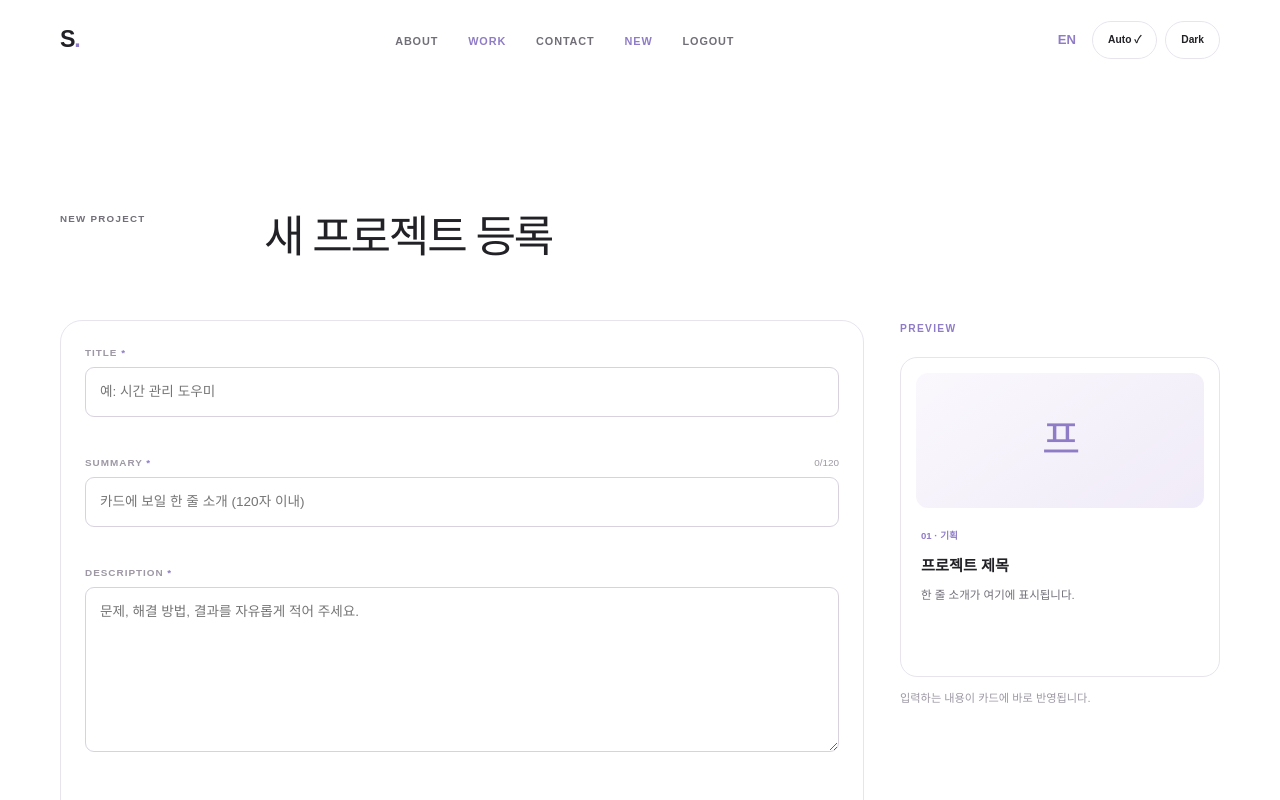
Test: 등록 화면 (/projects/new) › 저장에 실패하면 폼 위에 오류를 보여주고 입력값을 유지한다
Step 1. Type "제목" into the field labelled "TITLE *" → coordinates (462, 392), box left=85, top=368, right=839, bottom=417
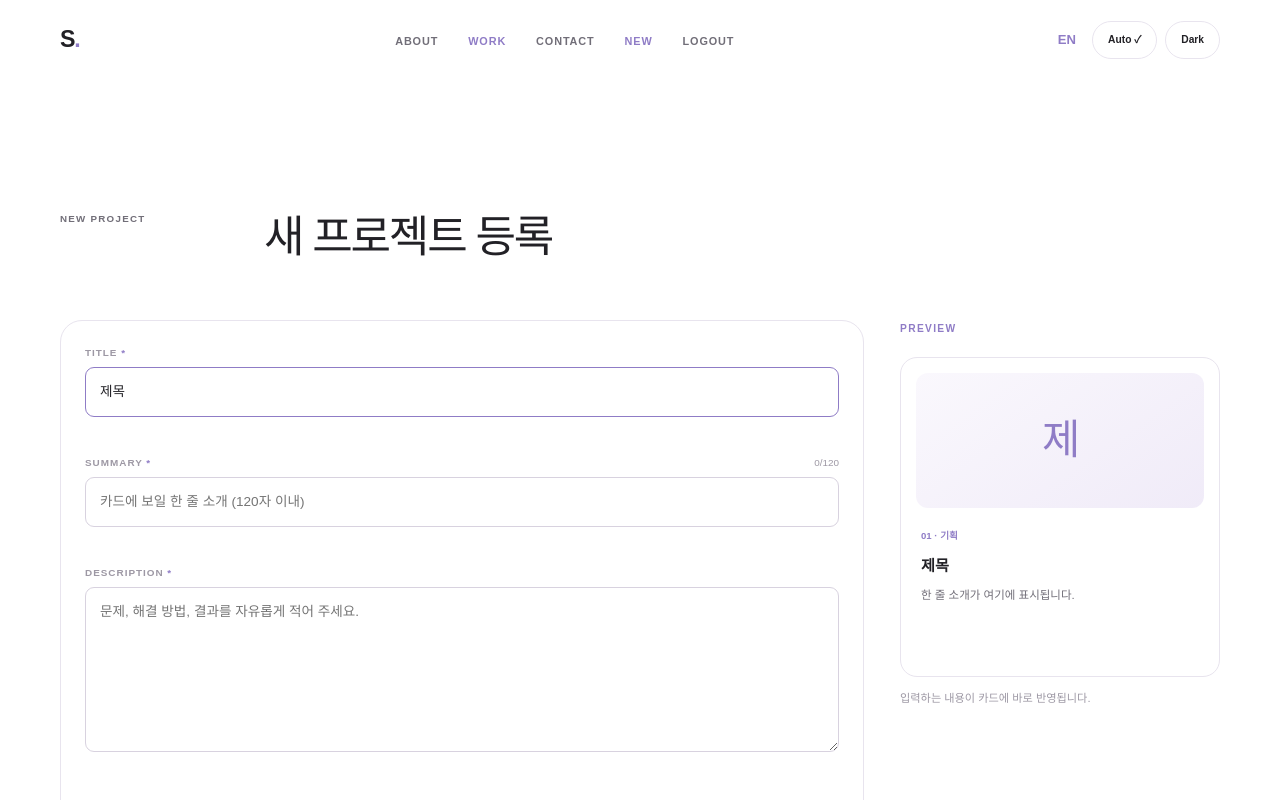
Step 2. Type "요약" into the field labelled "SUMMARY *" → coordinates (462, 502), box left=85, top=477, right=839, bottom=526
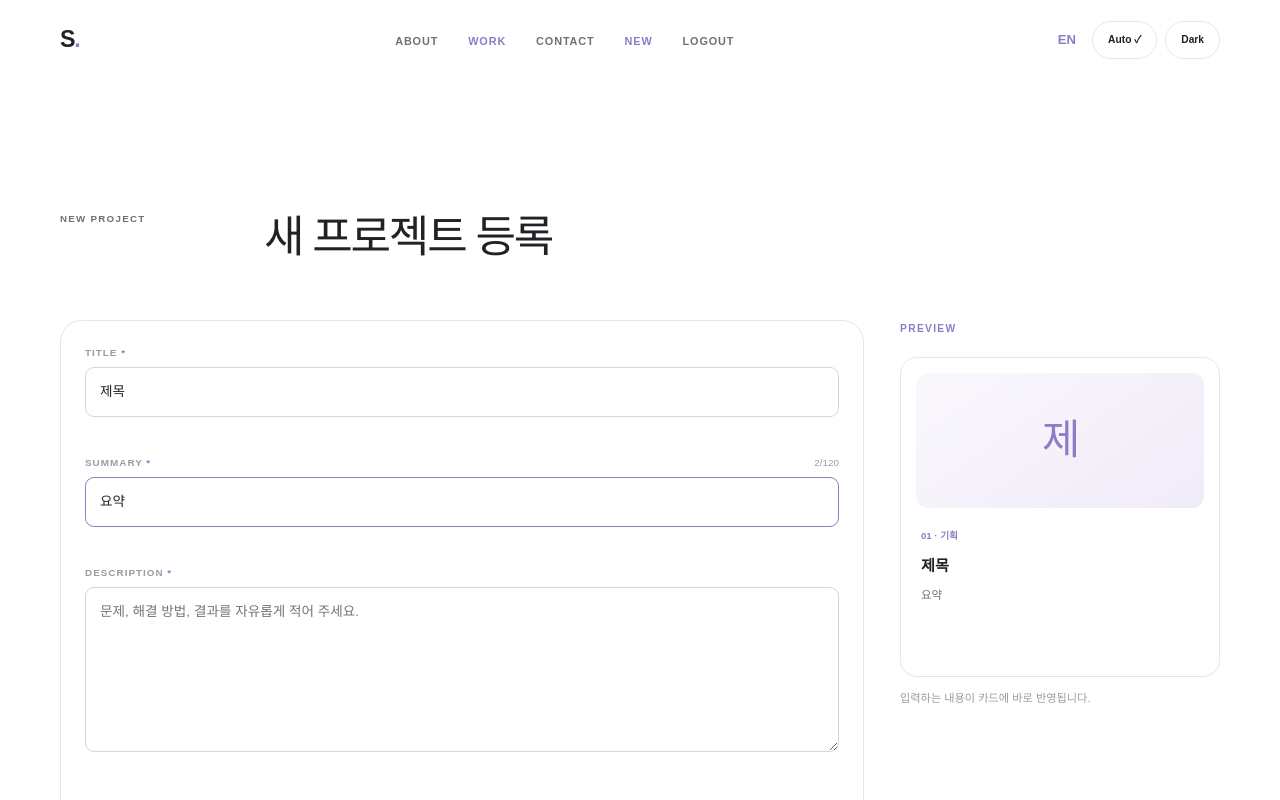
Step 3. Type "설명" into the text box labelled "DESCRIPTION *" → coordinates (462, 670), box left=85, top=587, right=839, bottom=752
(page scrolled)
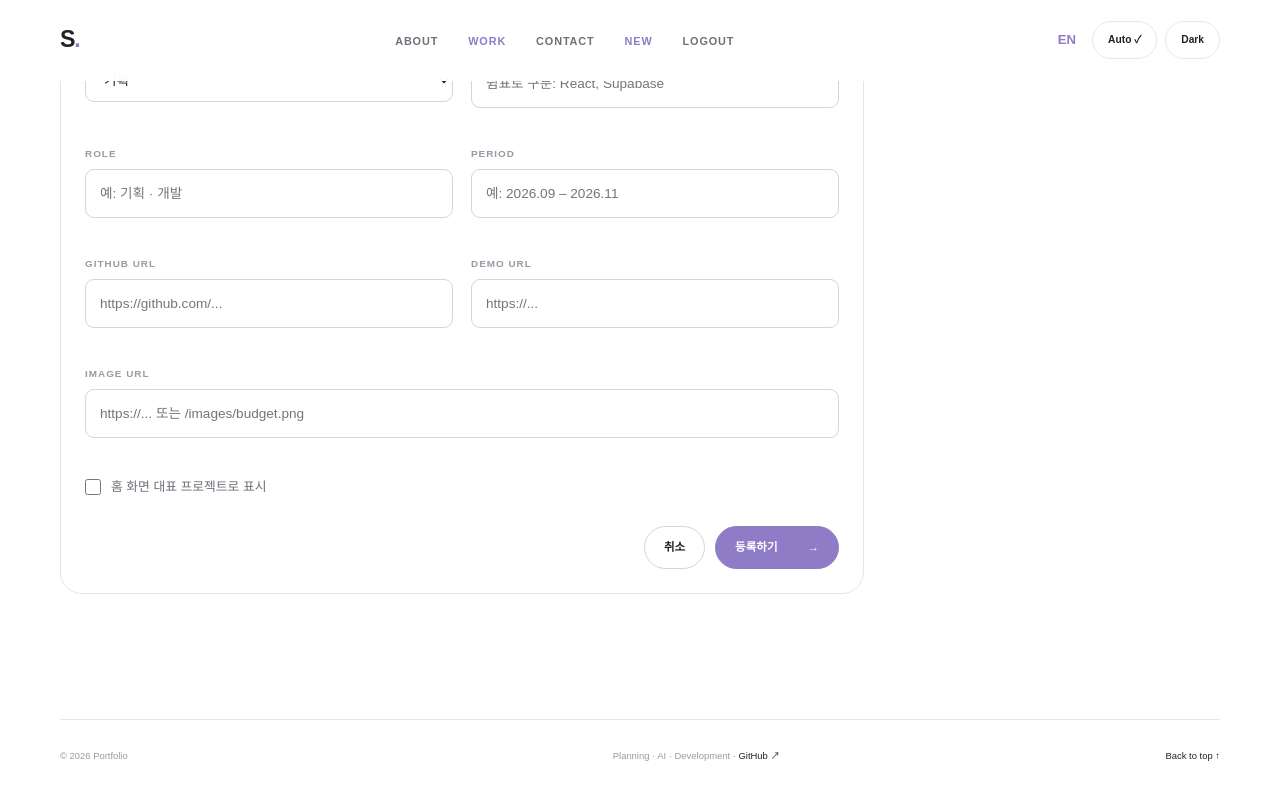
Step 4. Click the button "등록하기 →" → coordinates (777, 548), box left=715, top=526, right=839, bottom=570
(page scrolled)
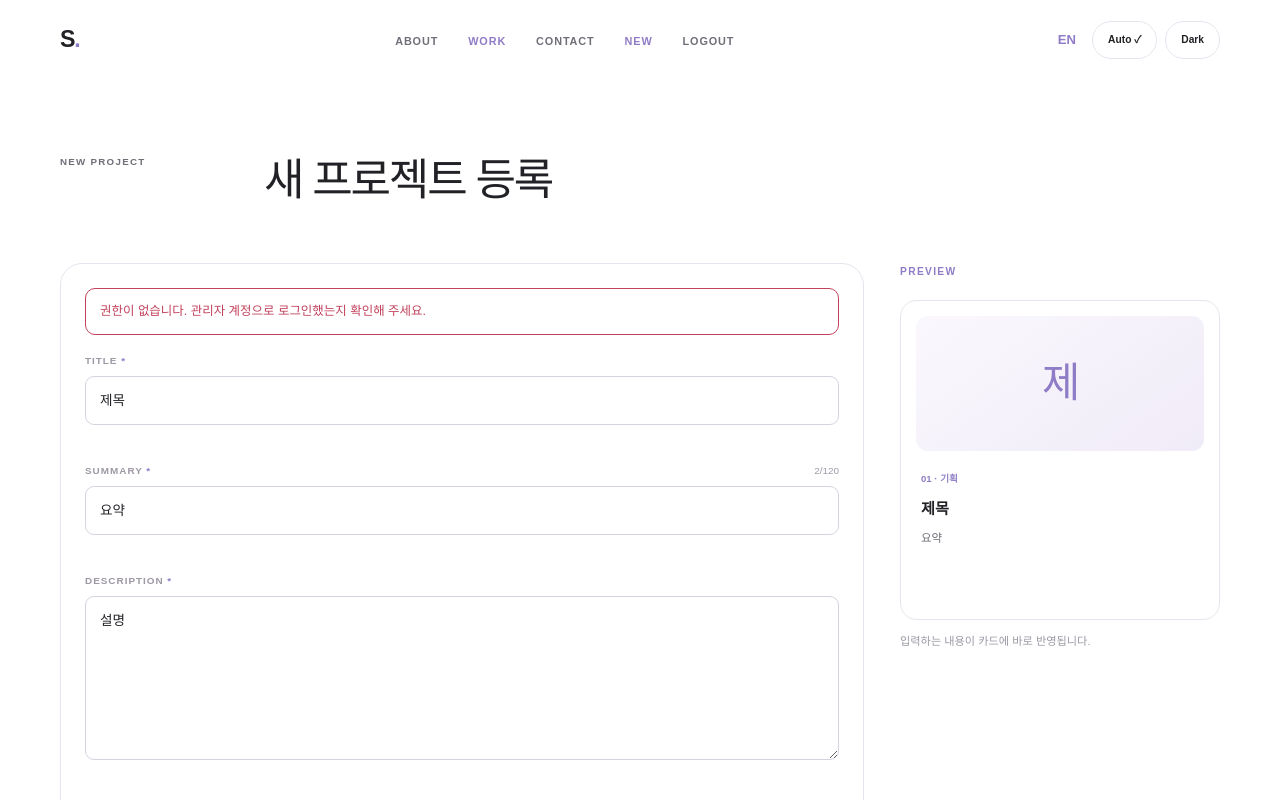
Check: the message shows "권한이 없습니다.", box left=100, top=304, right=426, bottom=318
